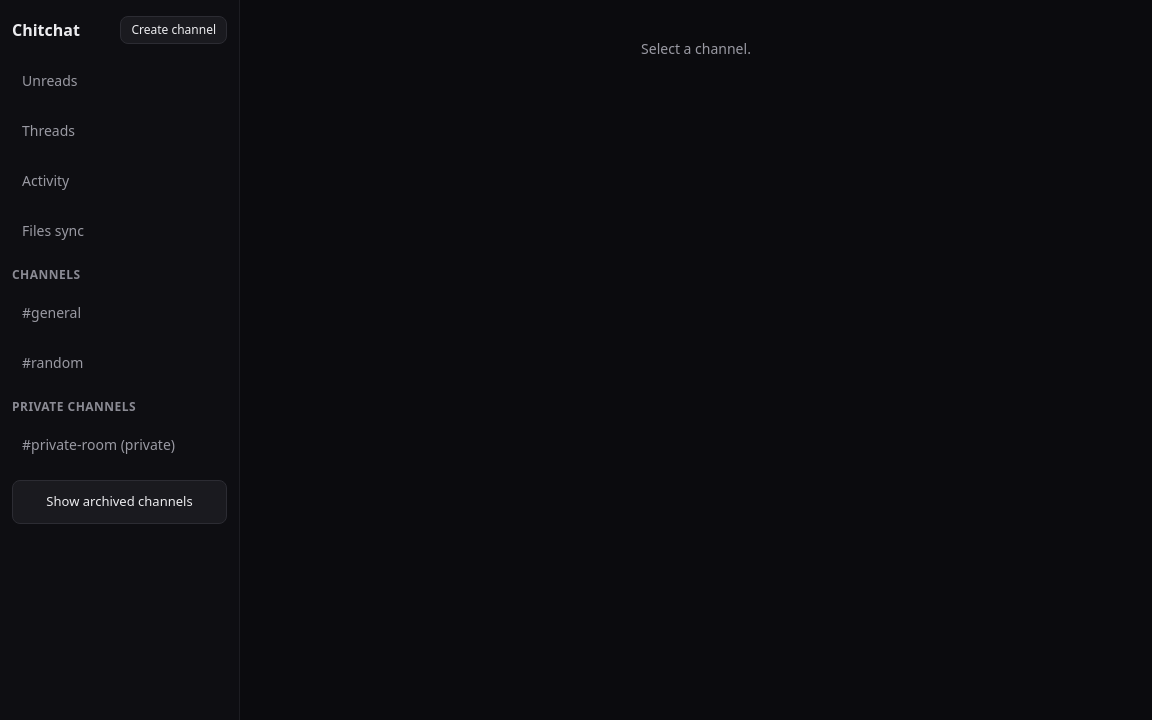
Test: App › keeps Files recovery reachable after a channel is deleted
Click the button "Files sync" at (120, 230), box [12,206,227,254]
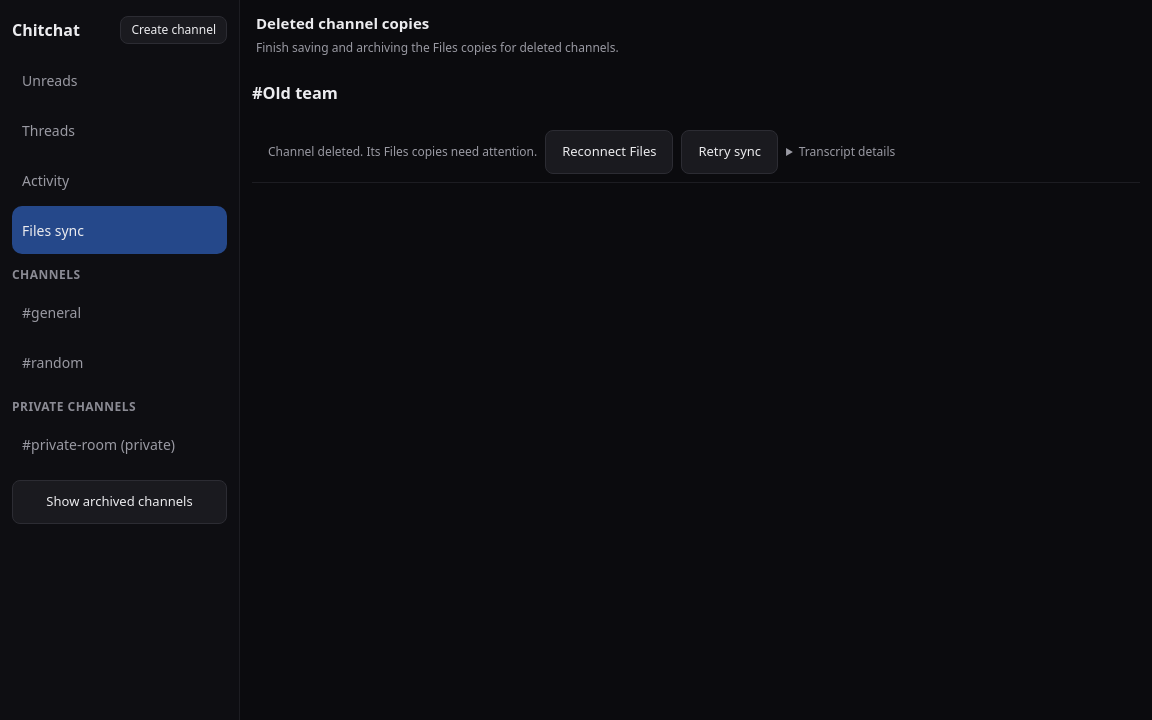
Now the heading "#Old team" is shown, box [252,82,338,104]
Now the text "Channel deleted. Its Files copies need attention." is shown, box [268,143,537,161]
Click the button "Retry sync" at (730, 152), box [682,130,778,174]
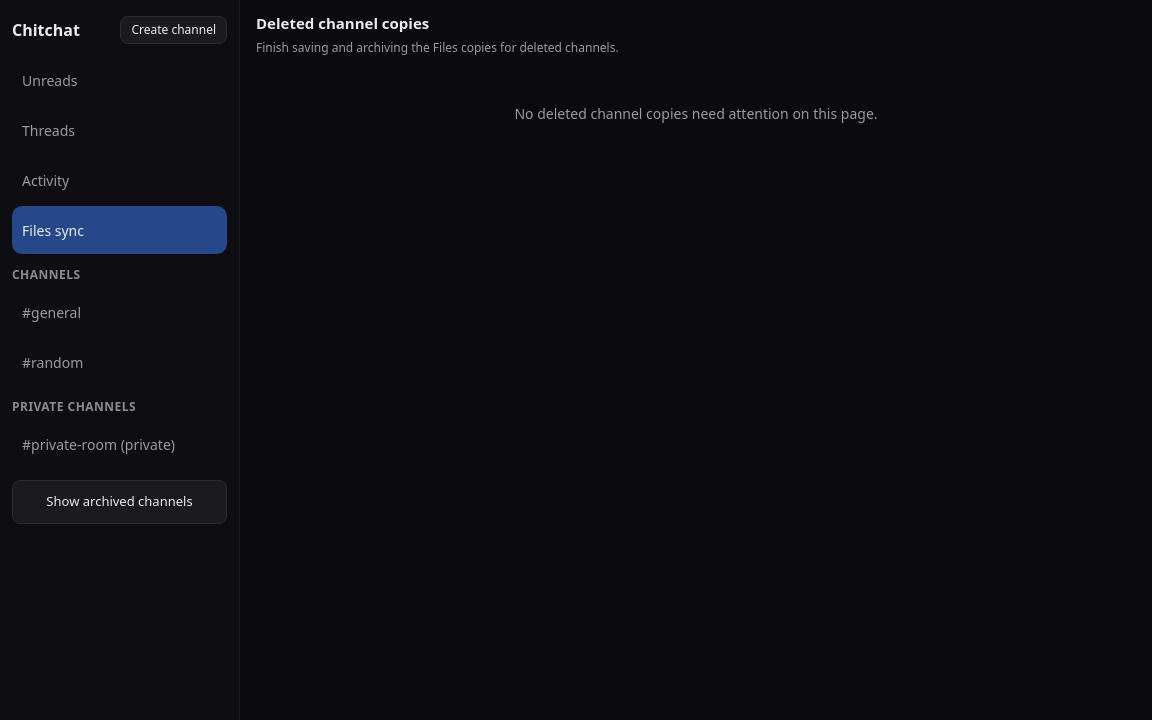
Now the text "No deleted channel copies need attention on this page." is shown, box [514,104,878,122]
Now the button "Retry sync" is gone
